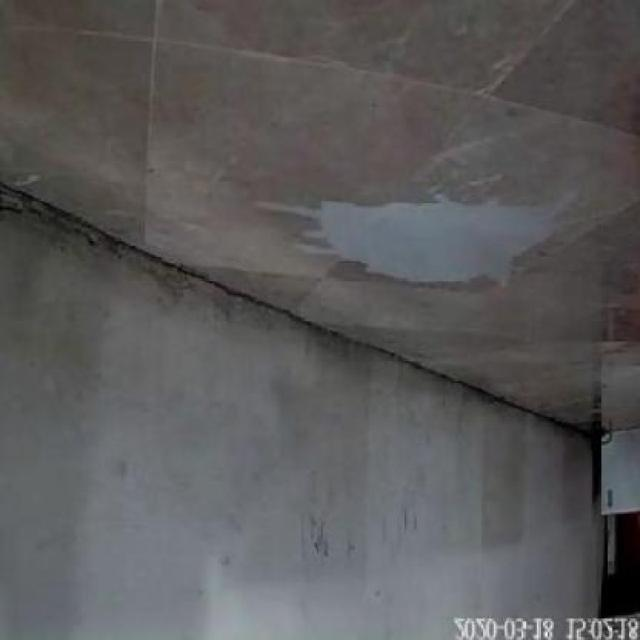spillage: (258, 195, 557, 285)
